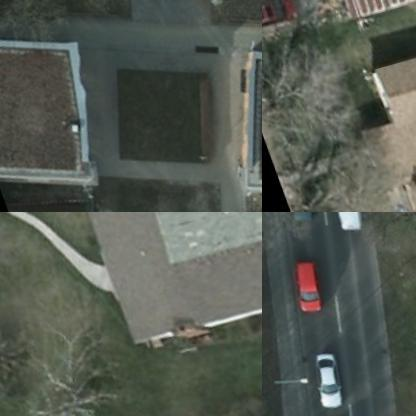car: (296, 348, 344, 409), (280, 259, 321, 308), (262, 0, 305, 38), (317, 212, 371, 235), (271, 212, 319, 225)
